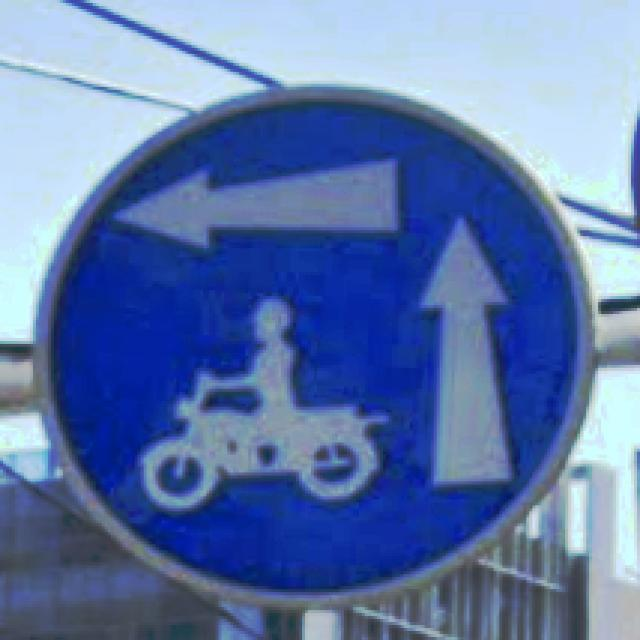twostageturn: (48, 93, 577, 595)
